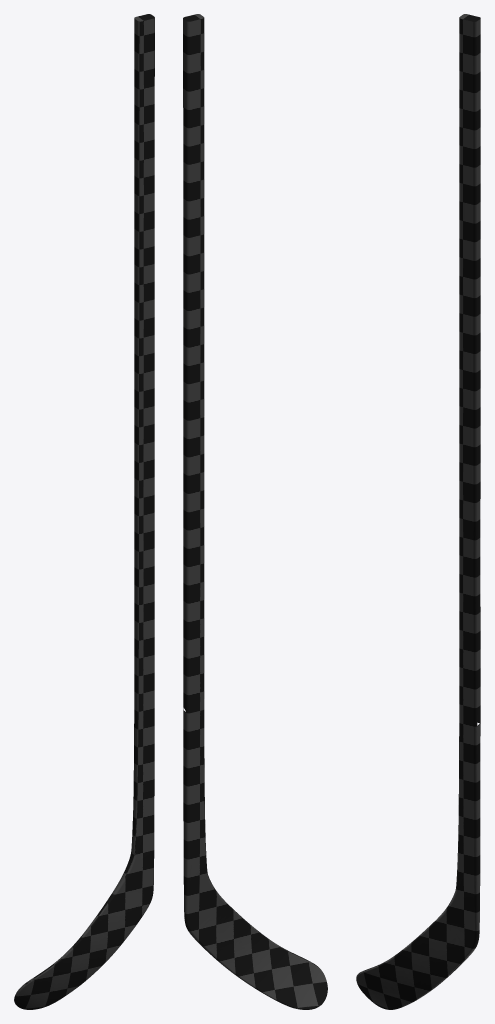
3 views of the same model, side by side, from view 1: azimuth 30°, elevation 25°; view 2: azimuth 210°, elevation 25°; view 3: azimuth 330°, elevation 25° (orthographic). The views are drawn at different scales.
Parts seen in each view (by area): view 1: geometry_0; view 2: geometry_0; view 3: geometry_0.
Boxes of the visible parts, x1=… form: geometry_0: x1=14, y1=14, x2=154, y2=1009; geometry_0: x1=183, y1=14, x2=327, y2=1009; geometry_0: x1=356, y1=14, x2=480, y2=1009.
Bounding box in the file's own units: 224 × 1650 × 57.3.
1 material, 1 textured.
